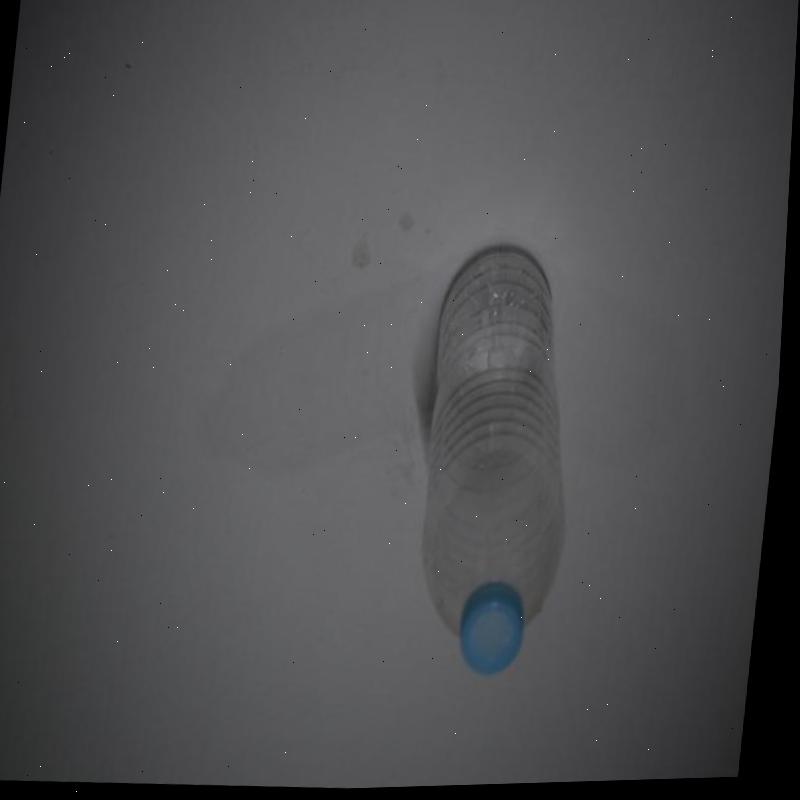botella: (409, 239, 600, 681)
